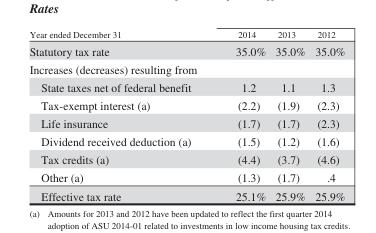table: (28, 28, 344, 202)
table column: (28, 28, 212, 202), (212, 28, 269, 202), (269, 28, 309, 202), (309, 28, 344, 202)
table column header: (28, 28, 344, 41)
table projected row header: (28, 59, 344, 77)
table row: (28, 77, 344, 96), (28, 41, 344, 59), (28, 59, 344, 77), (28, 96, 344, 114), (28, 114, 344, 132), (28, 132, 344, 150), (28, 150, 344, 168), (28, 168, 344, 186), (28, 186, 344, 202), (28, 28, 344, 41)
